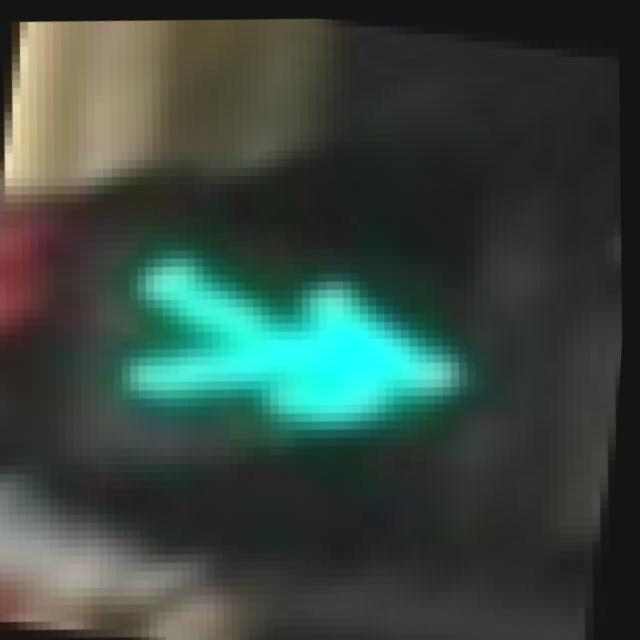green_light: (48, 68, 577, 576)
